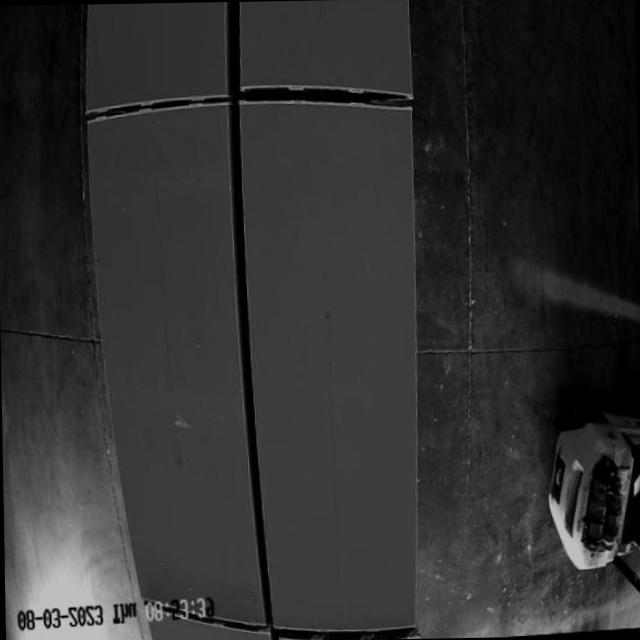forklift: (537, 387, 640, 623)
